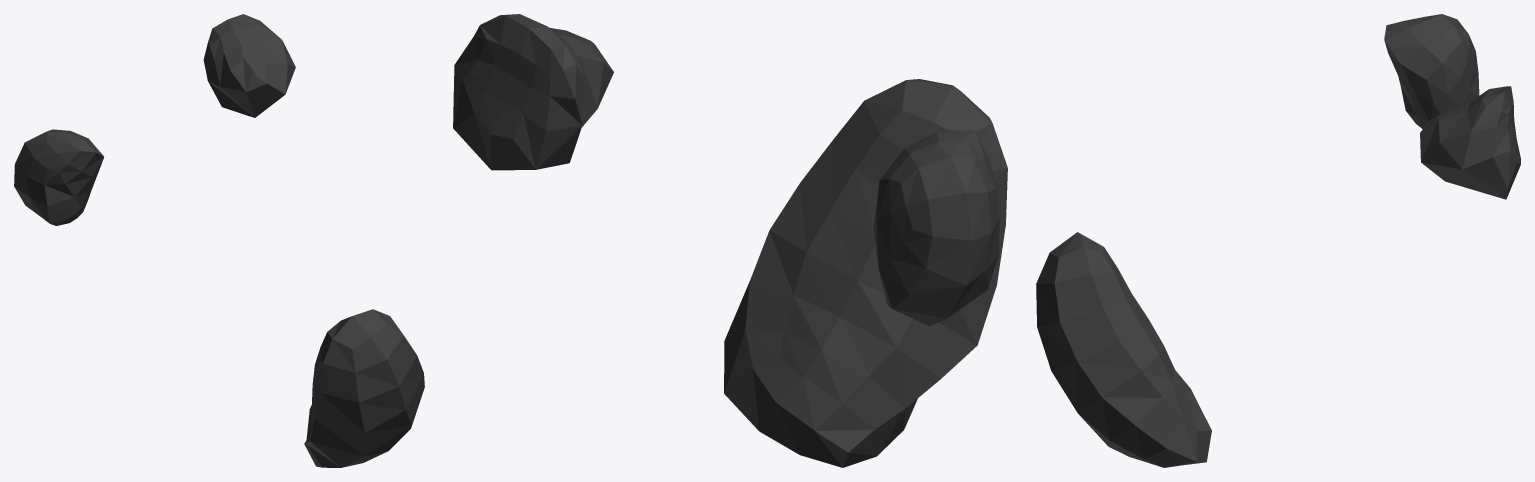
Rendered from Patella.glb.
The picture shows the model from 3 angles, left to right: view 1: azimuth 30°, elevation 25°; view 2: azimuth 150°, elevation 25°; view 3: azimuth 270°, elevation 25°; orthographic projection. The views are drawn at different scales.
Visible parts, largest first — view 1: Patella; view 2: Patella; view 3: Patella.
Boxes of the visible parts, x1=… form: Patella: x1=14, y1=14, x2=424, y2=467; Patella: x1=453, y1=14, x2=1007, y2=467; Patella: x1=1036, y1=14, x2=1520, y2=467.
Bounding box in the file's own units: 1.72 × 1.97 × 2.18.
Materials: 1 (1 with a texture image).
